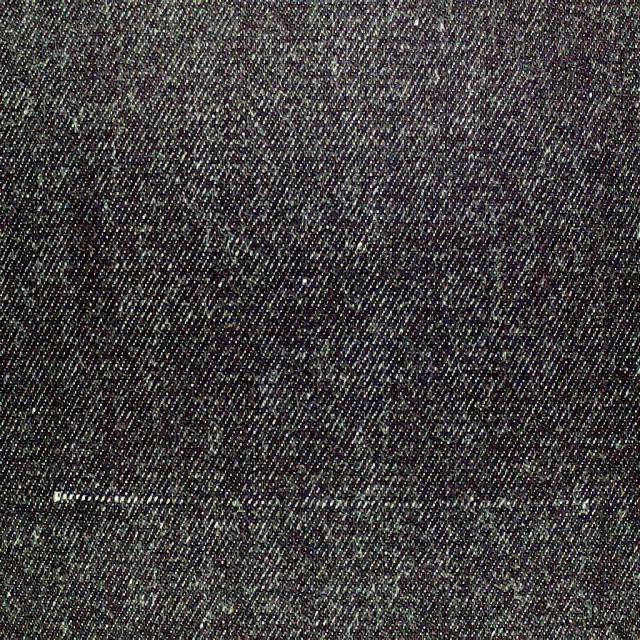Line: (48, 491, 592, 512)
